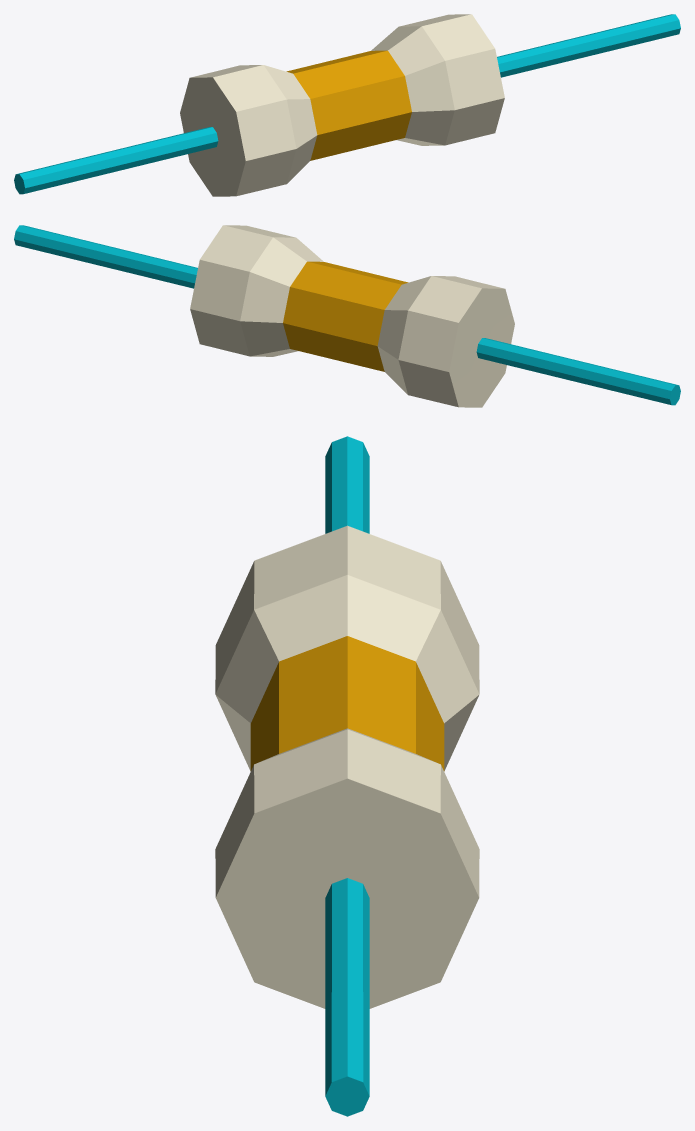
Rendered from resistor.fbx.
The picture shows the model from 3 angles, top to bottom: view 1: azimuth 30°, elevation 25°; view 2: azimuth 150°, elevation 25°; view 3: azimuth 270°, elevation 25°; orthographic projection. The views are drawn at different scales.
Visible parts, largest first — view 1: Resistor_1; view 2: Resistor_1; view 3: Resistor_1.
Boxes of the visible parts, bbox=[...] form: Resistor_1: bbox=[14, 14, 680, 196]; Resistor_1: bbox=[14, 225, 680, 407]; Resistor_1: bbox=[215, 436, 479, 1116].
Bounding box in the file's own units: 32.21 × 5.62 × 5.62.
